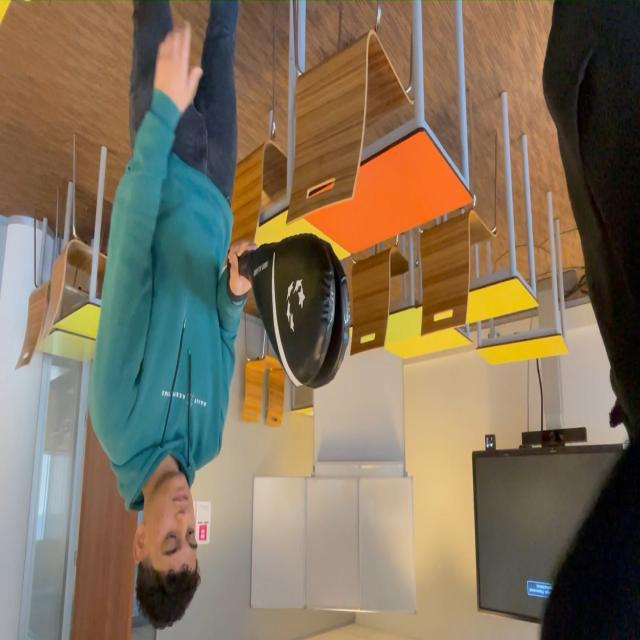paddle: (249, 244, 350, 387)
